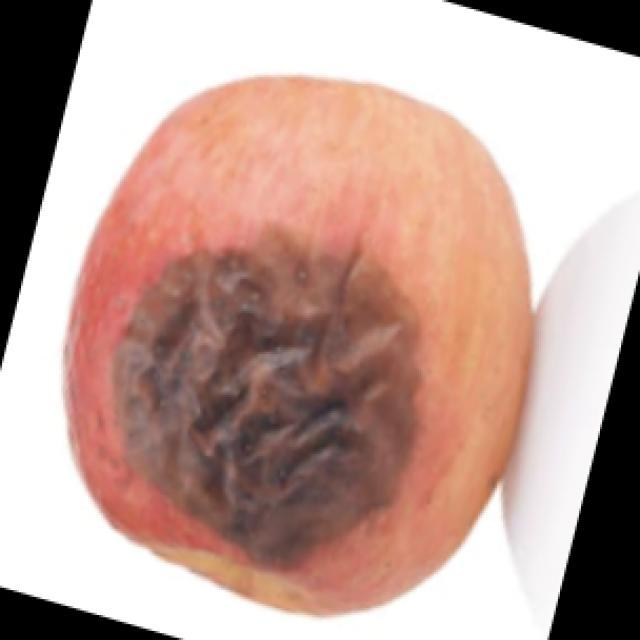Rotten: (47, 68, 533, 592)
